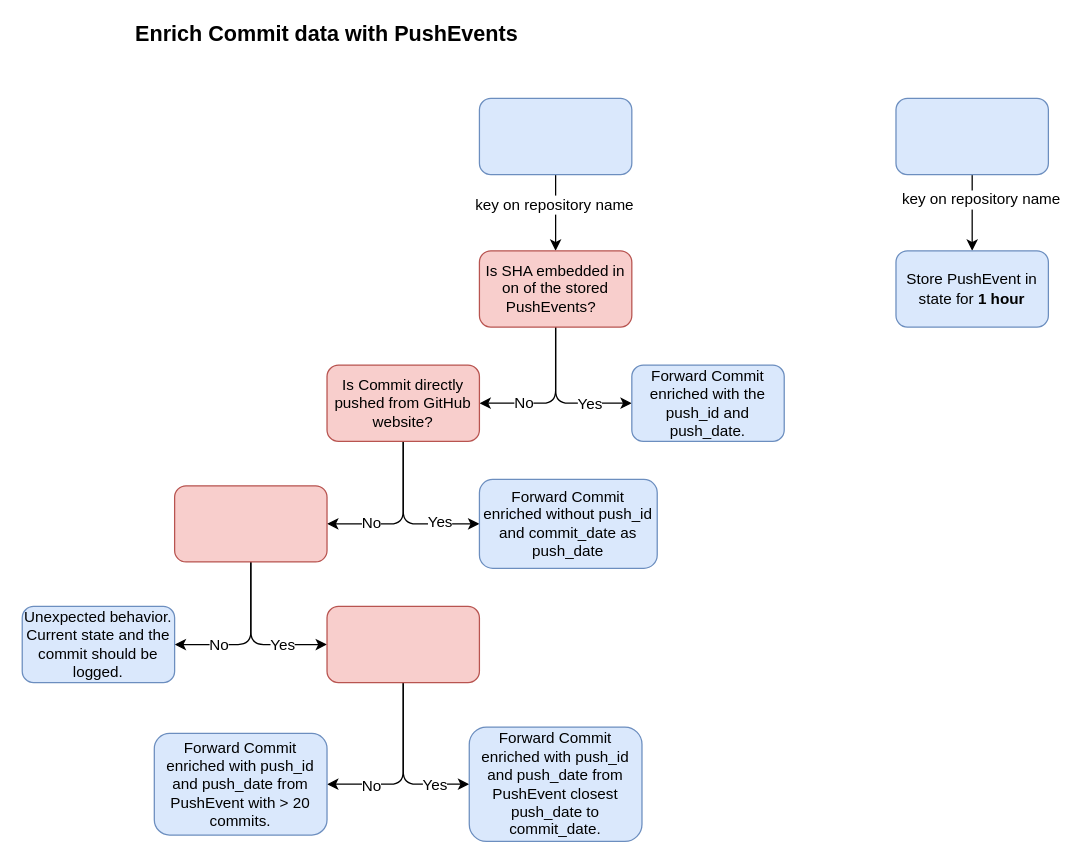
The diagram is 1082 pixels wide and 864 high, and some of its shapes have lost their labels. The centre of each missing label's shape, as x and y in pixels:
"Commit arrives" belongs at (x=555, y=136).
"Is there a PushEvent with more than 20 commits?" belongs at (x=250, y=523).
"Is there more than 1 PushEvent with more 20 commits?" belongs at (x=402, y=644).
"PushEvent arrives" belongs at (x=971, y=136).
